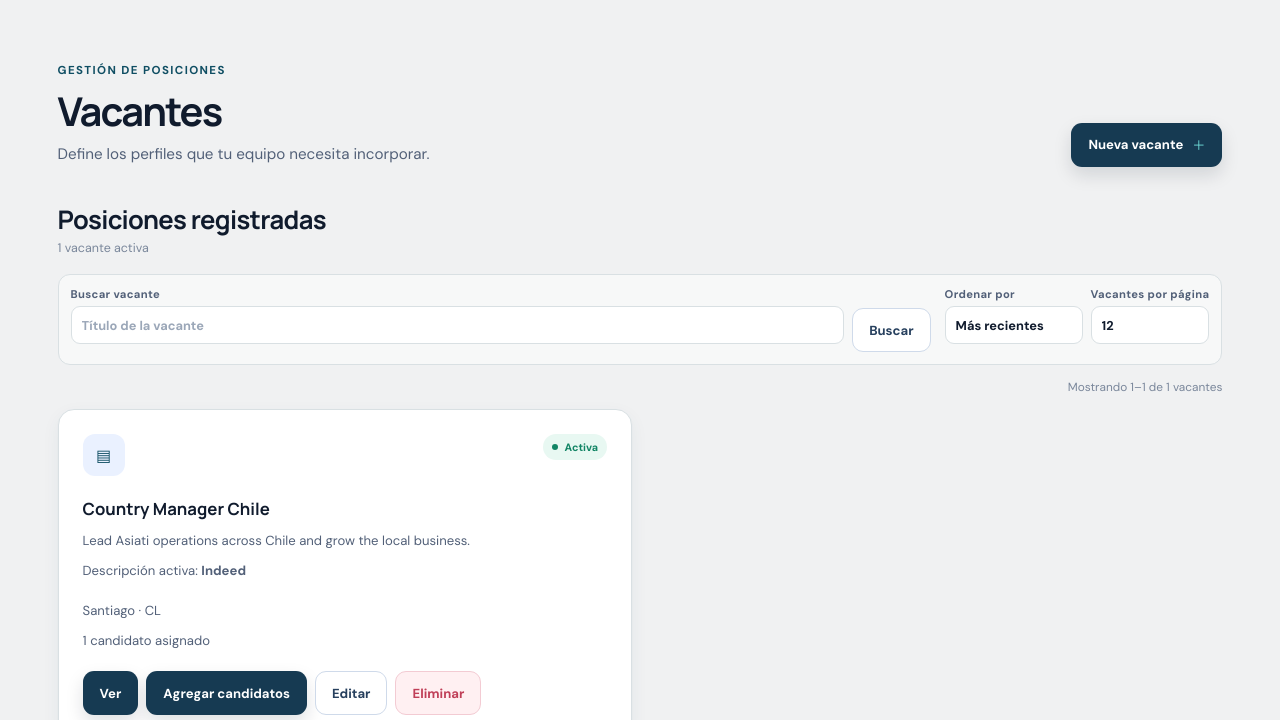
Scenario: Jobs Indeed integration › keeps controls unavailable while Indeed is disabled
expect the heading "Country Manager Chile" is shown: met, box [83, 498, 270, 520]
Click the button "Ver": (110,693) [83, 671, 138, 715]
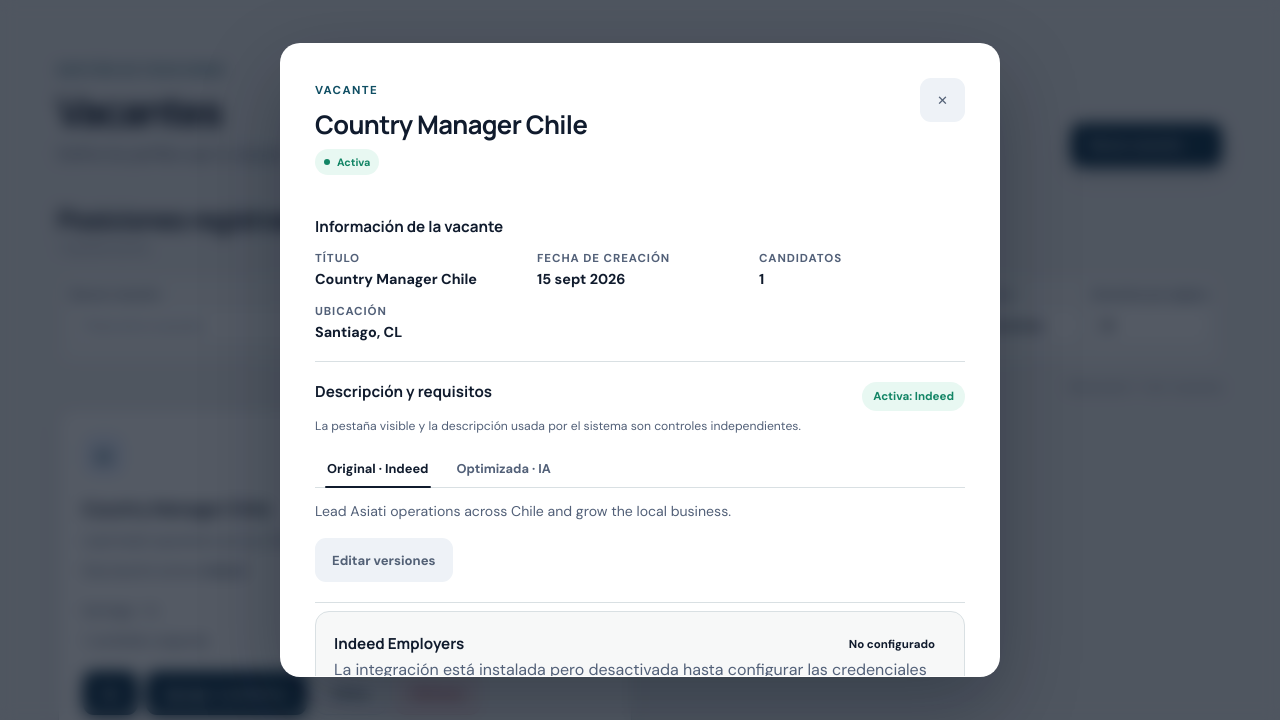
expect the heading "Indeed Employers" is shown: met, box [334, 634, 464, 655]
expect the text "No configurado" is shown: met, box [849, 637, 935, 652]
